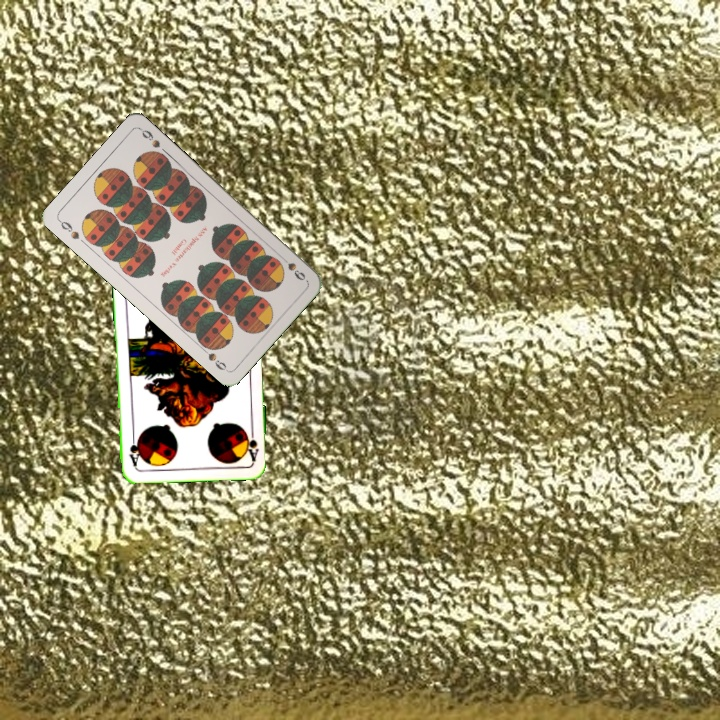S9: (276, 252, 308, 283), (55, 216, 82, 242)
SA: (242, 423, 261, 463)
